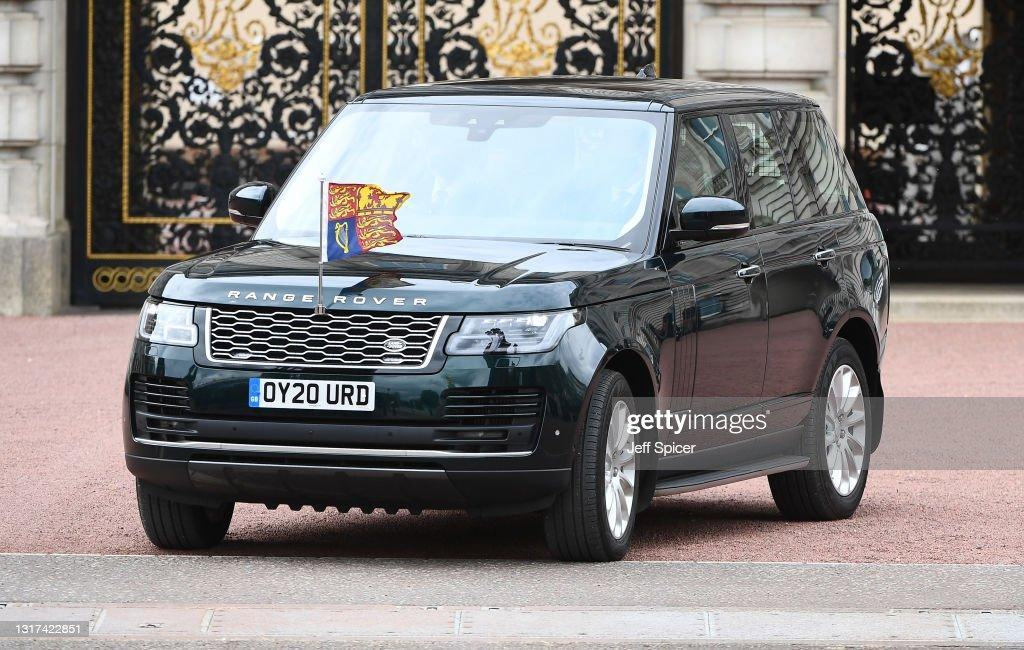range rover: (220, 280, 433, 321)
